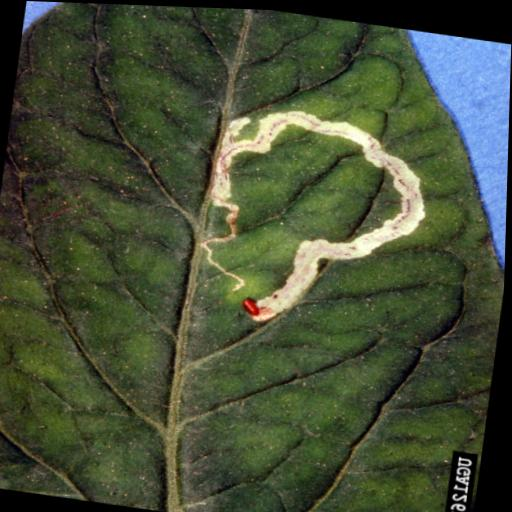Leaf_Miner: (0, 0, 507, 512)
